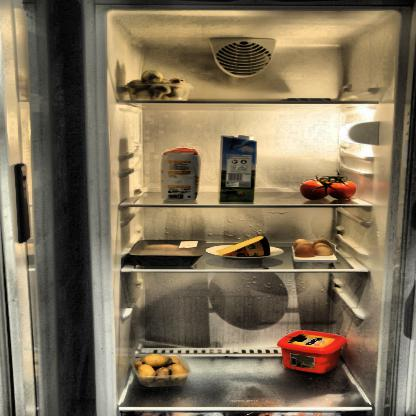butter: (277, 329, 349, 376)
cheese: (216, 235, 274, 258)
chicken: (134, 242, 202, 261)
chocolate: (280, 98, 339, 102)
eggs: (294, 235, 336, 260)
milk: (222, 135, 259, 206)
mushrooms: (122, 69, 191, 104)
potato: (133, 352, 192, 384)
tomato: (300, 177, 359, 200)
